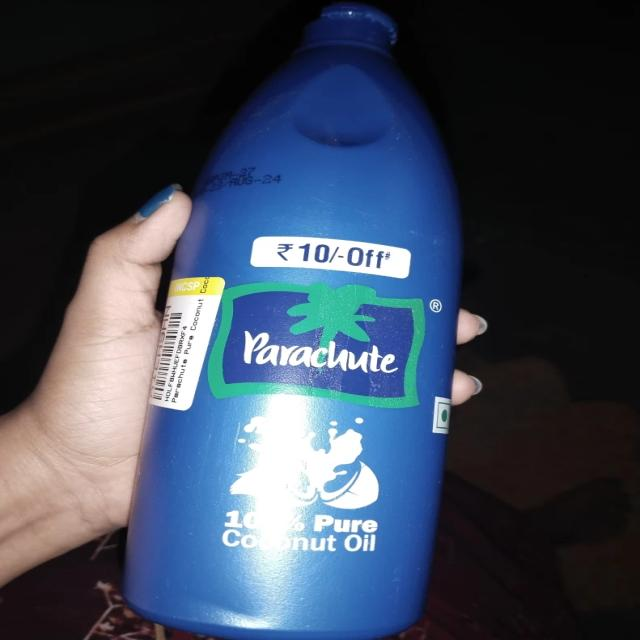parachute_oil: (164, 0, 465, 640)
